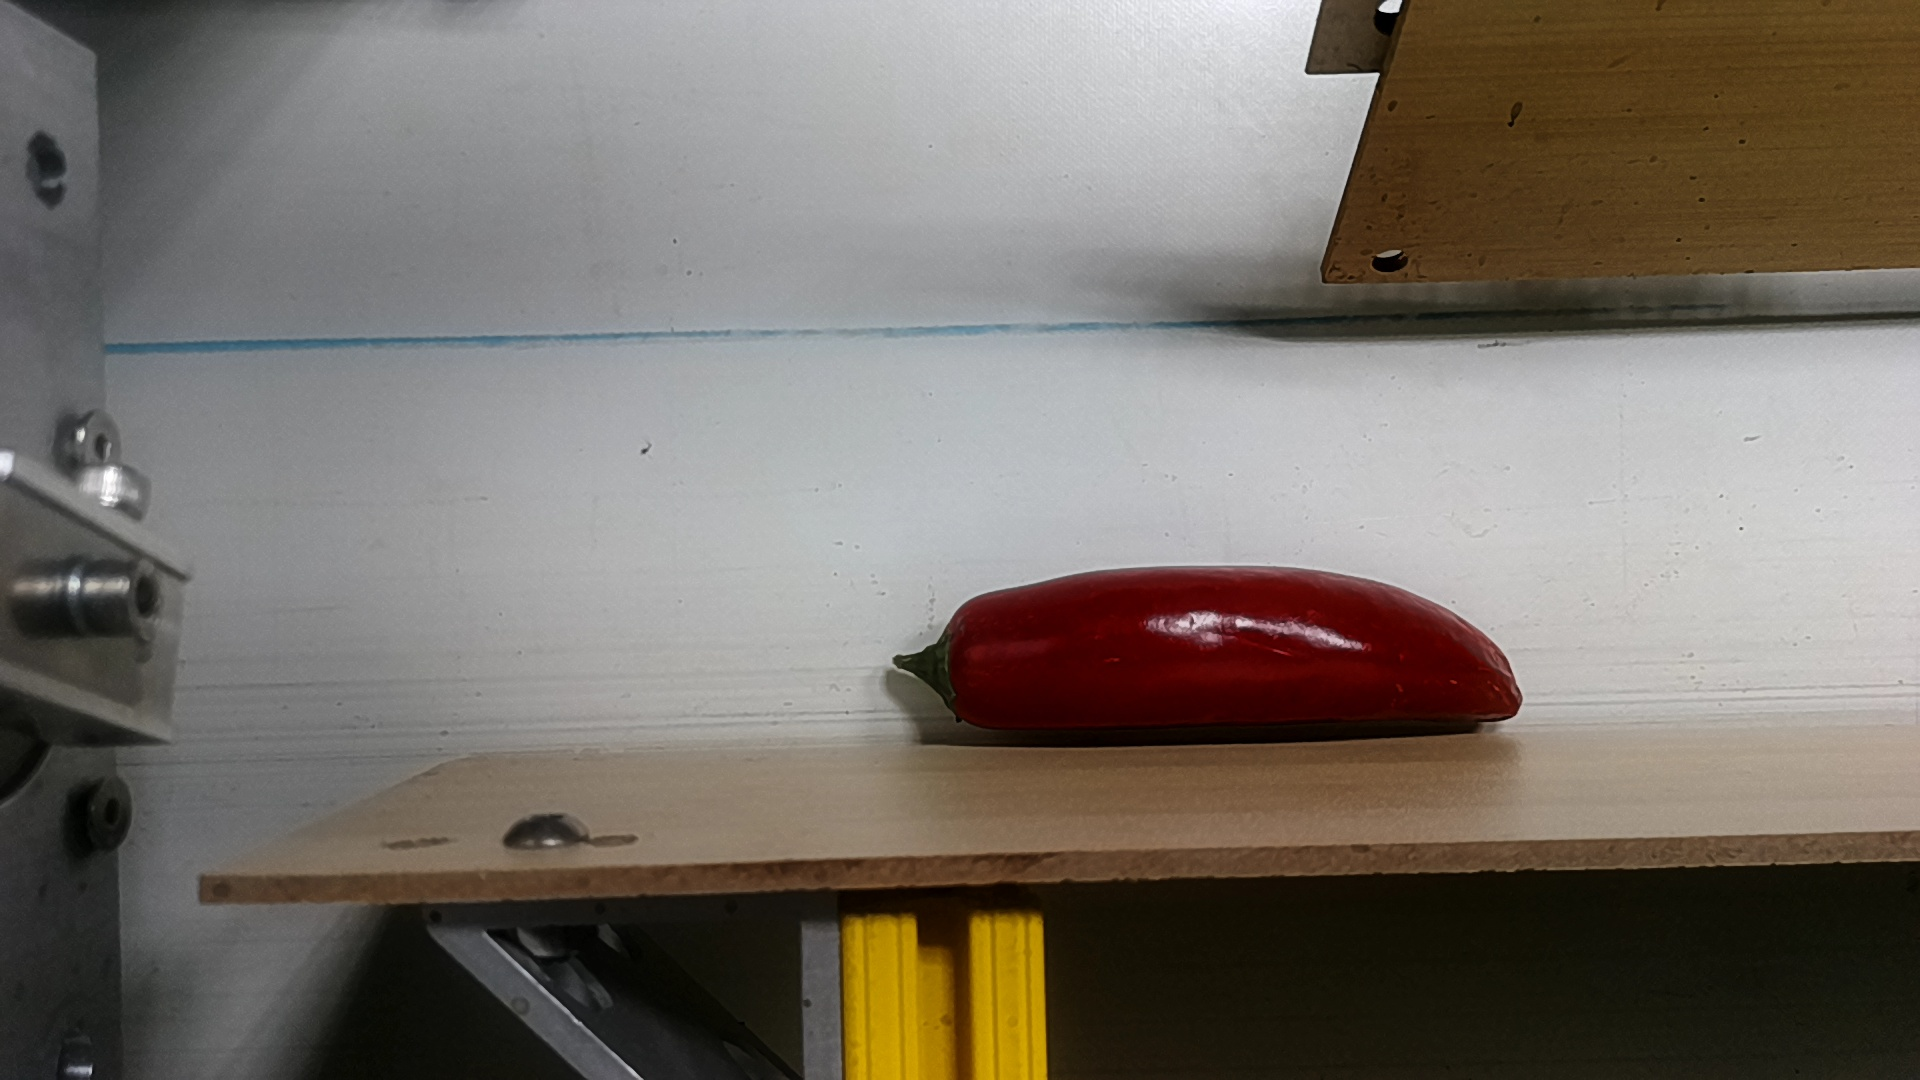Cut Point: (913, 591, 1004, 738)
